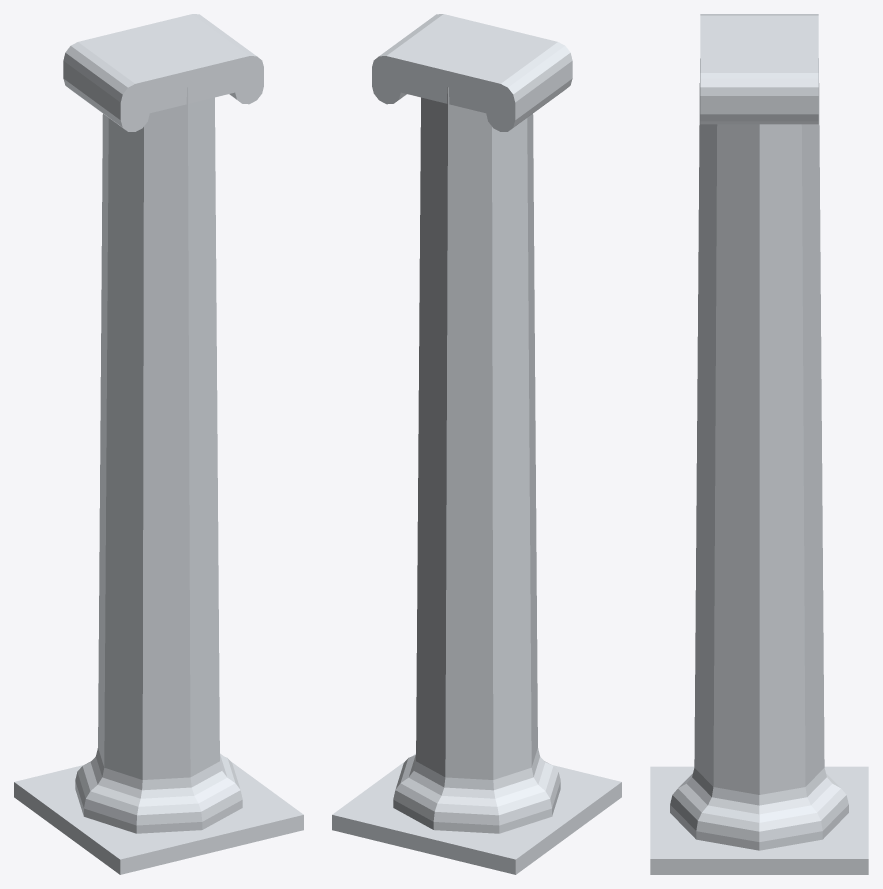
The model's file is Corintius_Pilar.fbx.
3 renders of one model, left to right at view 1: azimuth 30°, elevation 25°; view 2: azimuth 150°, elevation 25°; view 3: azimuth 270°, elevation 25°, orthographic. The views are drawn at different scales.
Visible parts, largest first — view 1: Corintius Pilar; view 2: Corintius Pilar; view 3: Corintius Pilar.
Boxes of the visible parts, x1,y1,x2,y2 form: Corintius Pilar: (14, 14, 303, 874); Corintius Pilar: (332, 14, 621, 874); Corintius Pilar: (650, 14, 868, 874).
Size of the model in its own units: 192 by 763 by 192.
